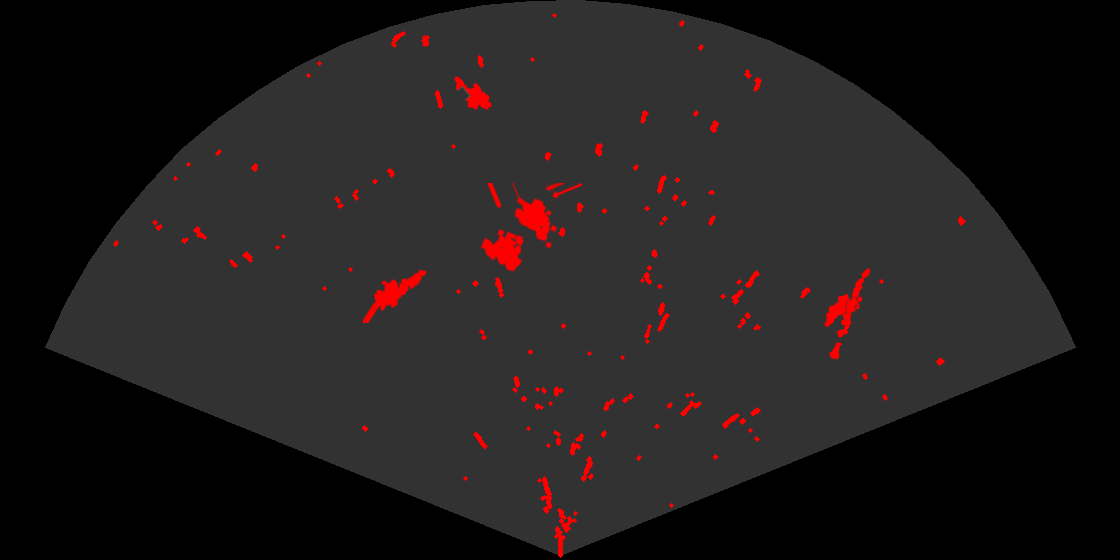AUV: (823, 292, 864, 328), (453, 75, 493, 111)
cage: (479, 183, 582, 273)
chain: (827, 266, 872, 361)
frogman: (363, 268, 428, 323)
